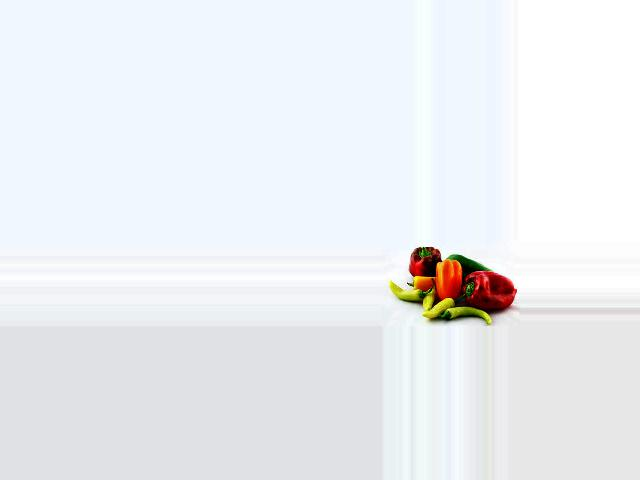bell_pepper: (436, 307, 495, 323)
